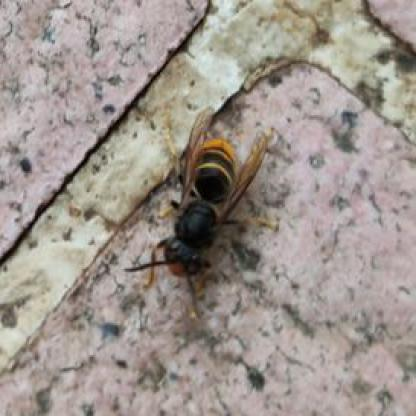Asian Hornet: (126, 105, 275, 320)
